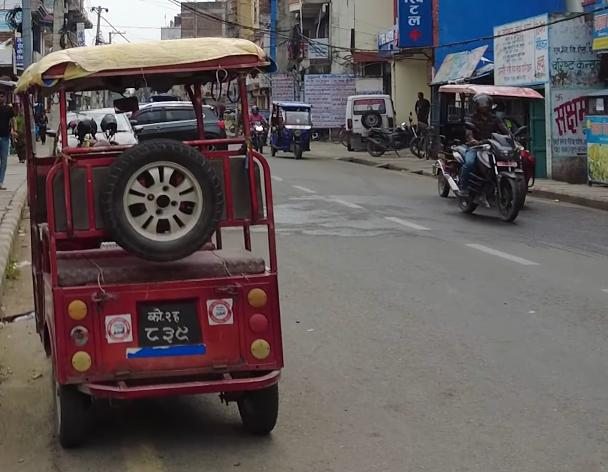ambulance: (346, 92, 395, 151)
bike: (451, 129, 525, 223), (369, 120, 425, 162), (251, 119, 269, 156)
e-rickshaw: (6, 32, 302, 459), (271, 98, 316, 164)
